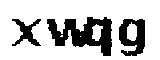g: (118, 16, 151, 60)
q: (85, 16, 116, 59)
w: (45, 15, 90, 51)
x: (5, 16, 43, 50)
